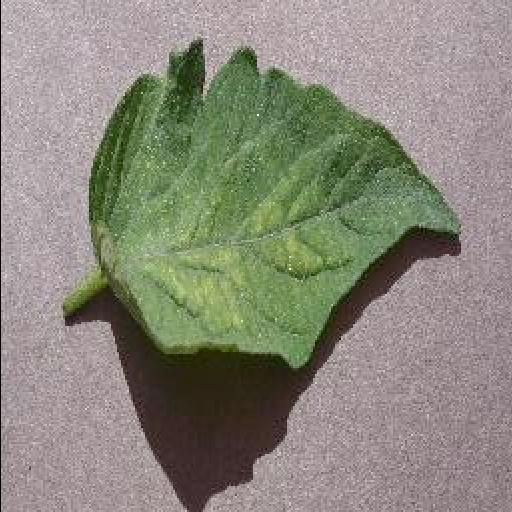disease_tomato: (84, 38, 462, 370)
